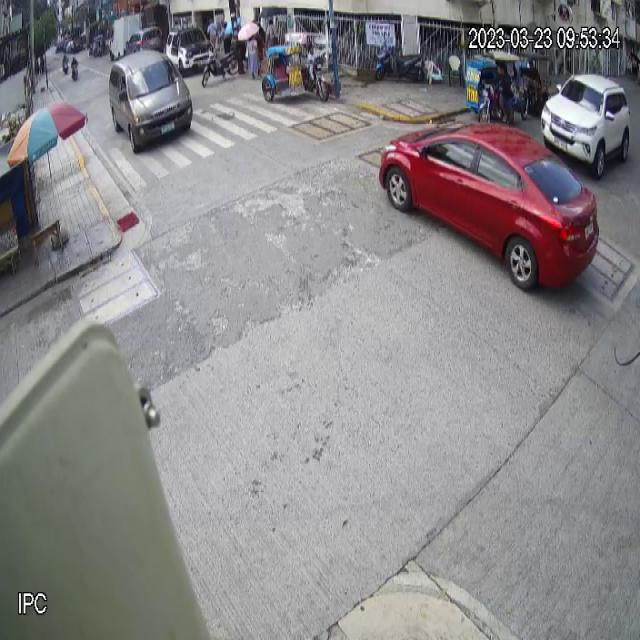Car: (377, 120, 601, 294), (539, 70, 631, 180)
Tricycle: (261, 31, 330, 104)
Van: (107, 48, 195, 155)
